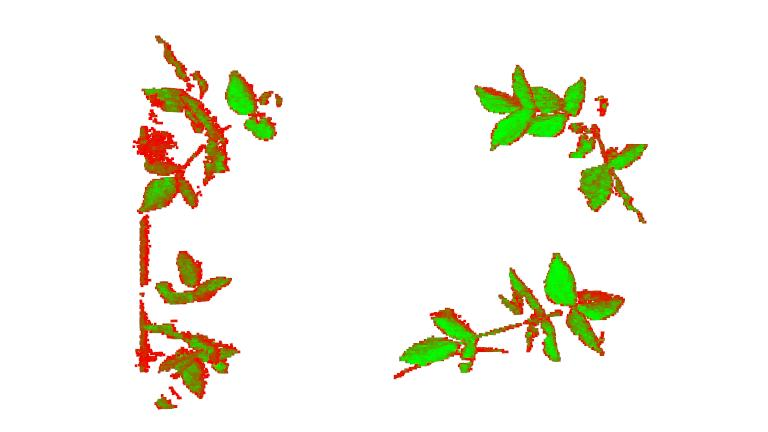mungbean: (472, 61, 648, 224), (401, 254, 624, 372), (130, 65, 285, 216), (143, 247, 243, 406)
